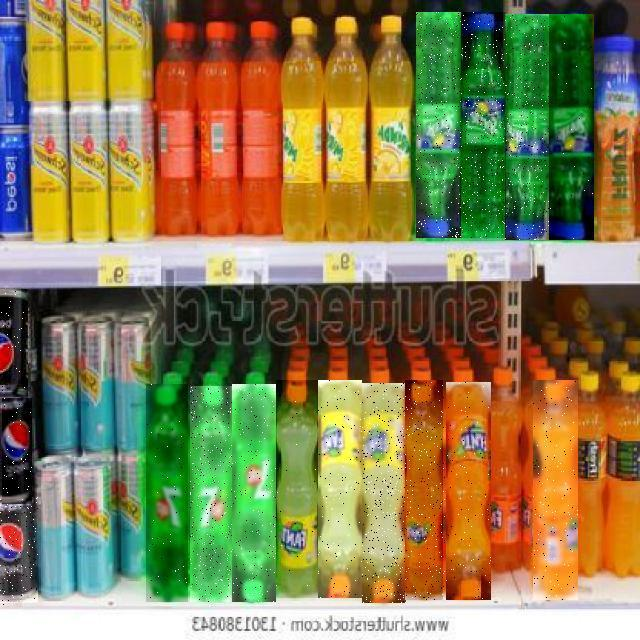Drinks: (460, 13, 506, 239), (505, 14, 550, 240), (549, 15, 594, 241), (416, 13, 461, 239), (533, 380, 578, 600), (446, 382, 491, 600), (362, 383, 406, 603), (232, 384, 276, 602), (318, 380, 362, 598), (190, 386, 233, 602), (146, 384, 188, 602), (276, 380, 318, 598), (406, 380, 446, 600), (0, 498, 38, 606), (2, 398, 32, 504), (1, 289, 29, 397)
